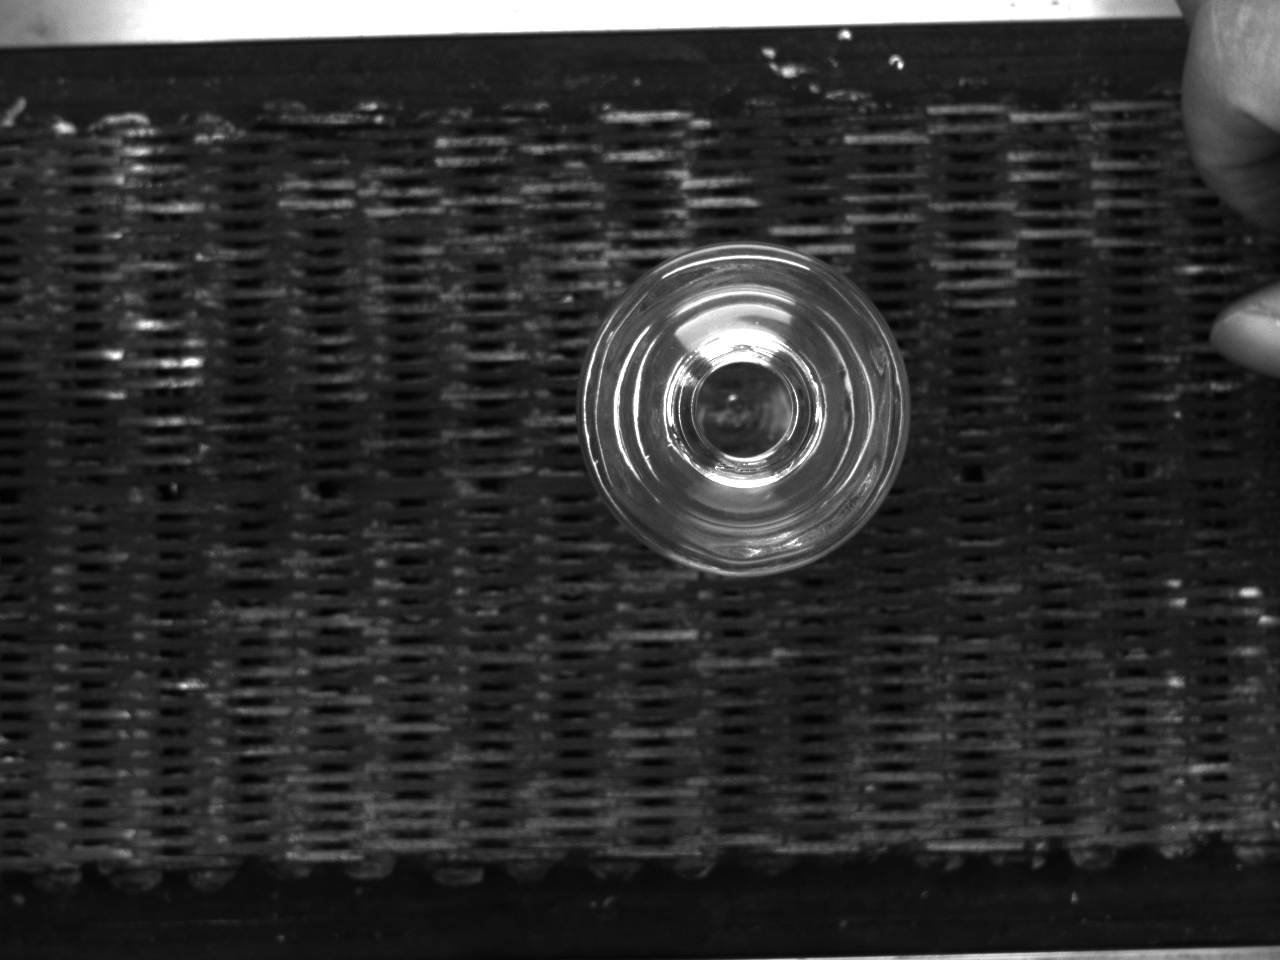bottleneck: (663, 329, 826, 488)
